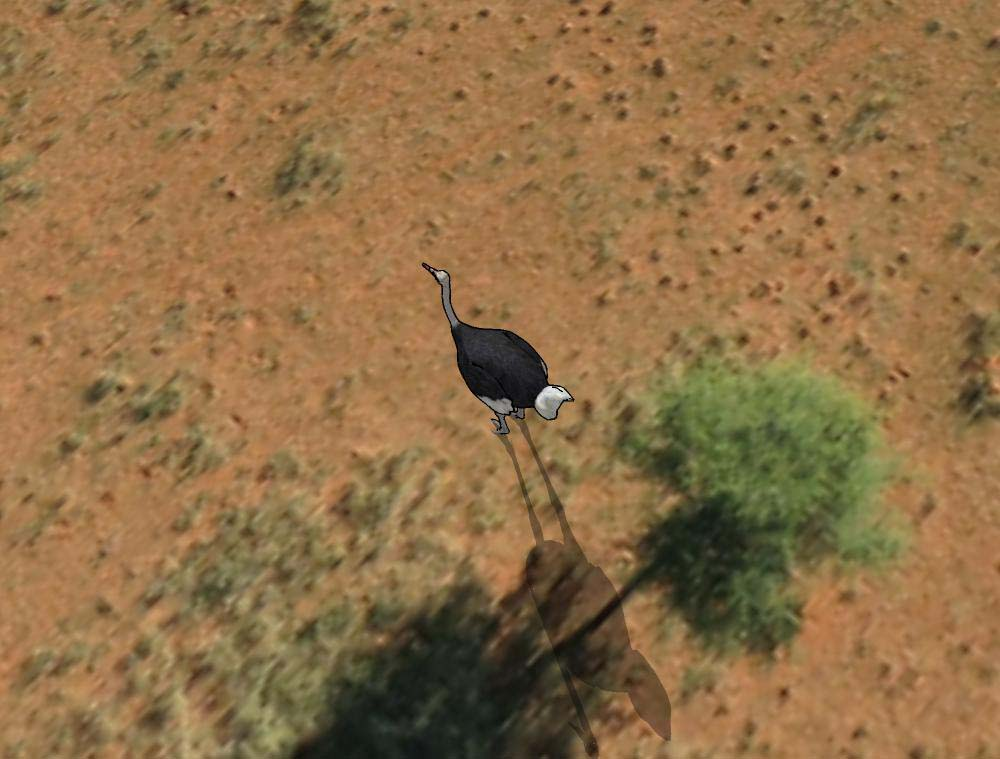ostrich: (422, 256, 578, 438)
